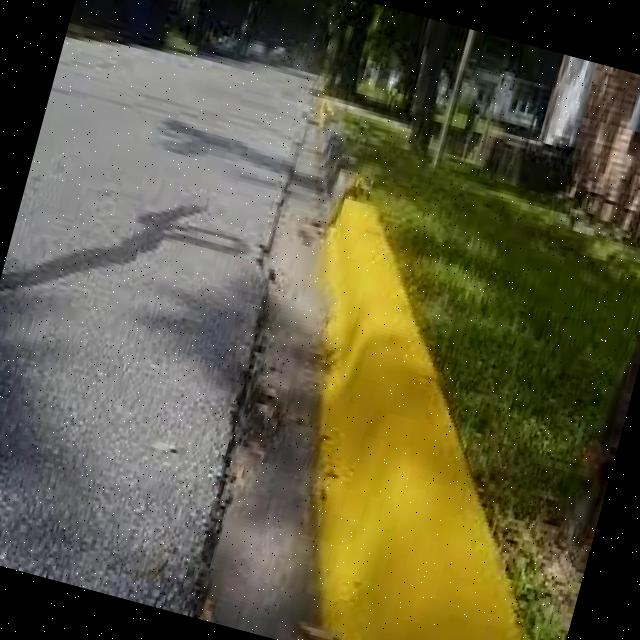curb: (244, 204, 532, 481), (239, 441, 595, 640), (267, 93, 387, 278)
